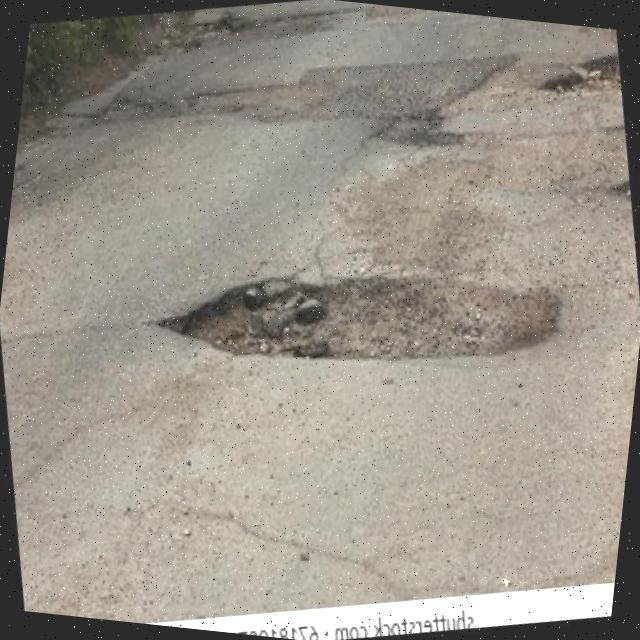Pothole: (76, 53, 554, 153), (159, 278, 560, 361), (144, 8, 402, 63), (547, 56, 619, 88)
